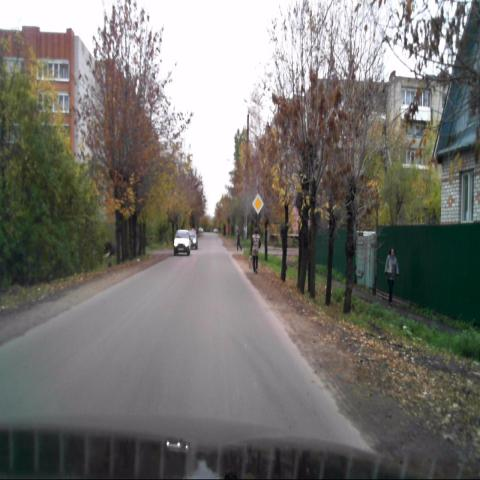2_1: (252, 192, 264, 214)
